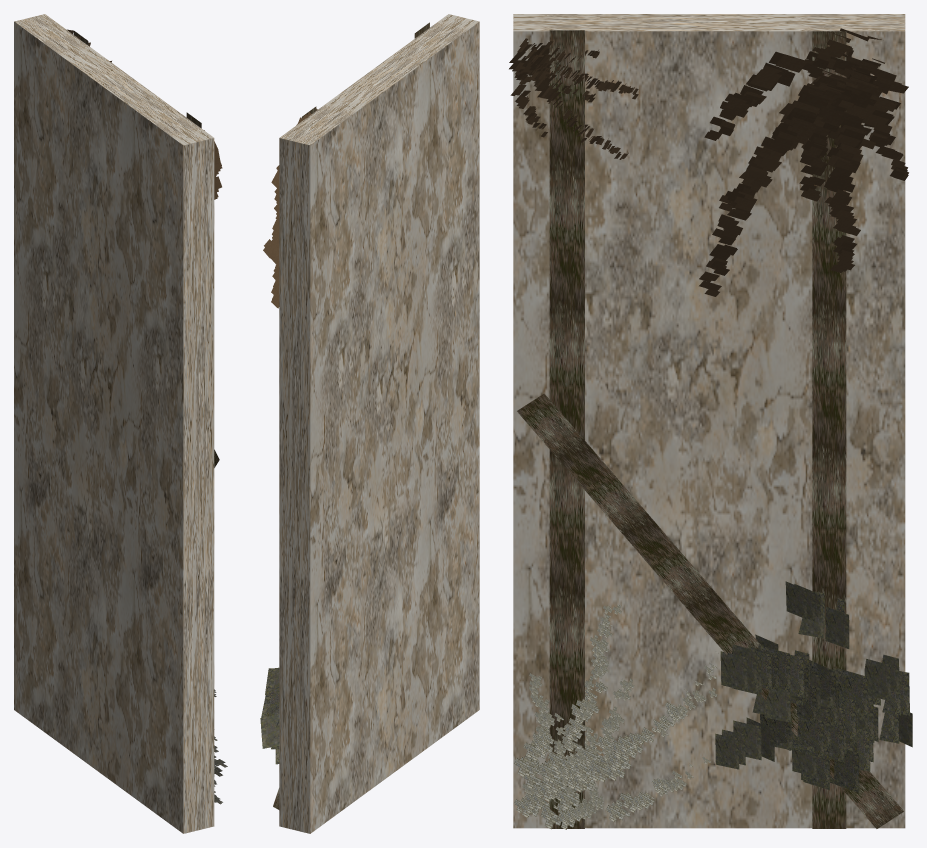
Rendered from SingleWallNoWindow.fbx.
The picture shows the model from 3 angles, left to right: view 1: azimuth 30°, elevation 25°; view 2: azimuth 150°, elevation 25°; view 3: azimuth 270°, elevation 25°; orthographic projection. The views are drawn at different scales.
Parts seen in each view (by area): view 1: Cube.025; view 2: Cube.025, IvyLeaf.003, IvyLeaf.002; view 3: Cube.025, Plane.006, IvyLeaf.003, IvyLeaf.002, Plane.009, IvyLeaf.001, Plane.005, IvyLeaf.
Part boxes in pixels (x1,y1,x2,y2): Cube.025: [14, 14, 214, 833]; Cube.025: [279, 14, 479, 833]; IvyLeaf.003: [260, 667, 279, 764]; IvyLeaf.002: [263, 108, 317, 308]; Cube.025: [513, 14, 905, 828]; Plane.006: [549, 30, 584, 828]; IvyLeaf.003: [715, 581, 912, 792]; IvyLeaf.002: [699, 28, 908, 296]; Plane.009: [812, 31, 846, 828]; IvyLeaf.001: [514, 604, 742, 829]; Plane.005: [517, 393, 903, 828]; IvyLeaf: [509, 38, 638, 159].
Size of the model in its own units: 54 by 453 by 207.
